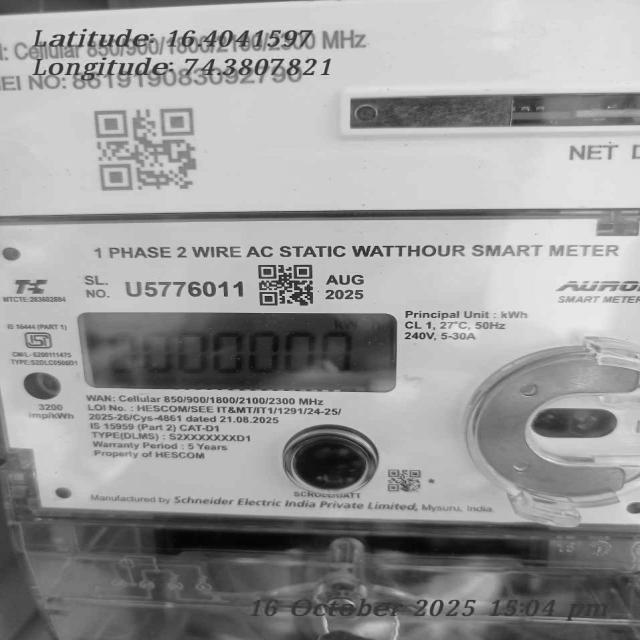meter: (0, 2, 640, 531)
